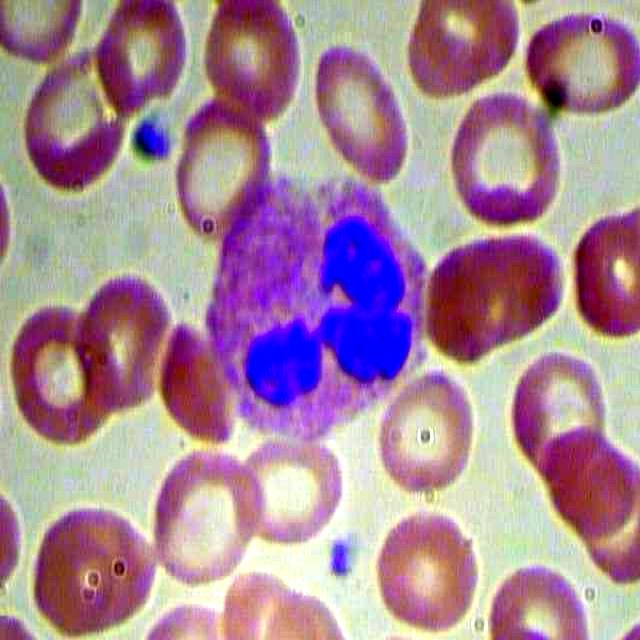Platelets: (127, 105, 183, 171), (320, 530, 360, 590)
RBC: (424, 217, 581, 371), (65, 254, 181, 426), (25, 491, 160, 636), (448, 89, 580, 236), (20, 37, 141, 196), (136, 439, 259, 589), (171, 88, 279, 247), (10, 294, 117, 449), (308, 31, 409, 193), (370, 509, 489, 636), (229, 429, 350, 552), (378, 371, 489, 498), (510, 345, 608, 479), (525, 11, 638, 124), (566, 203, 640, 353)
WBC: (185, 169, 447, 451)
